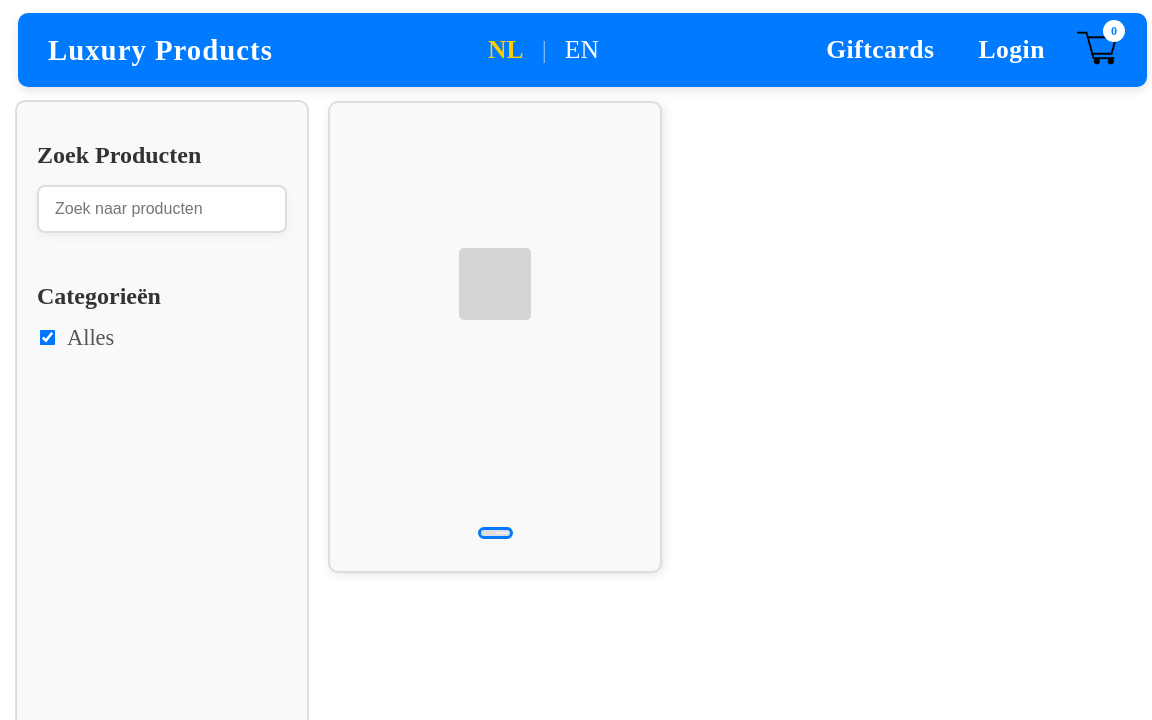
Test: test › should show error for invalid email input
Click the list item "Login" at (1012, 50), box [978,35,1045,64]
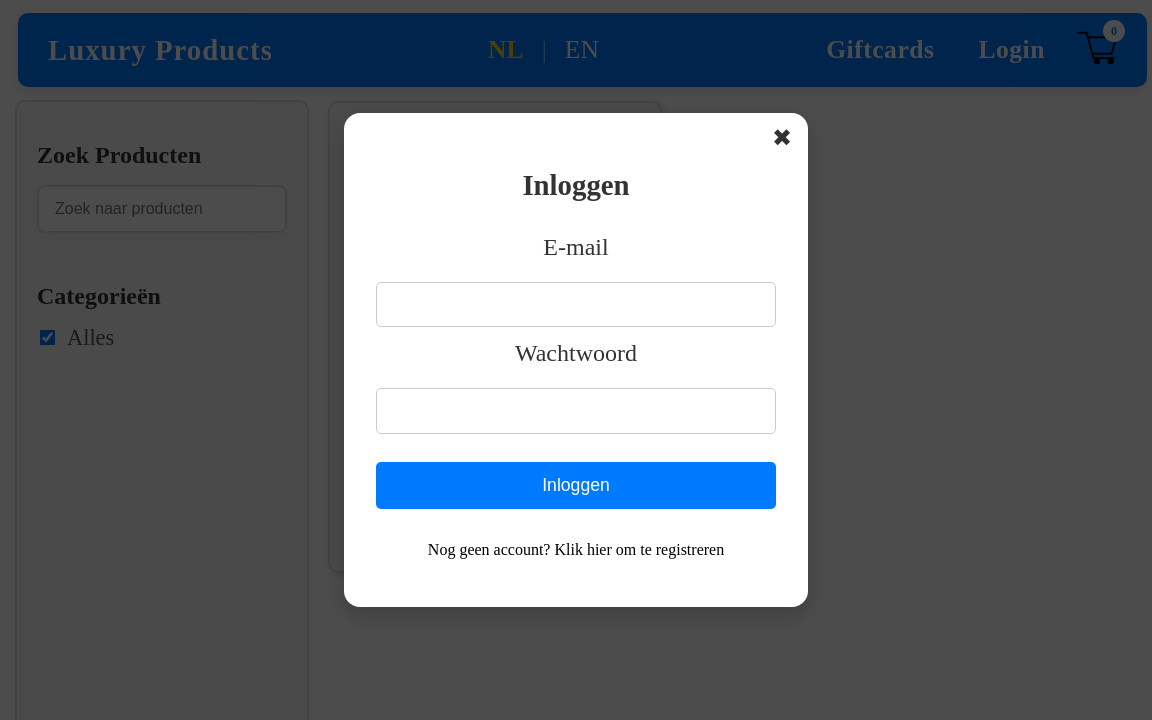
Type "invalidemail" into the field labelled "E-mail" at (576, 305), box [376,282,776,328]
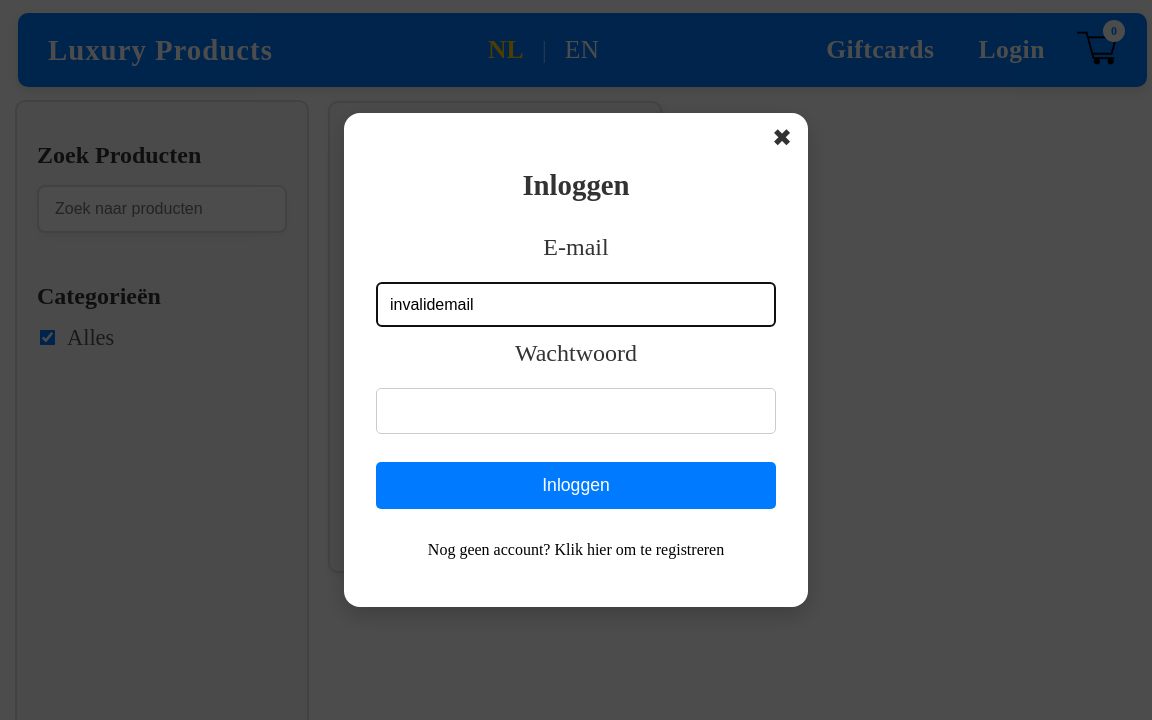
Type "Welkom01!" into the password field labelled "Wachtwoord" at (576, 411), box [376,388,776,434]
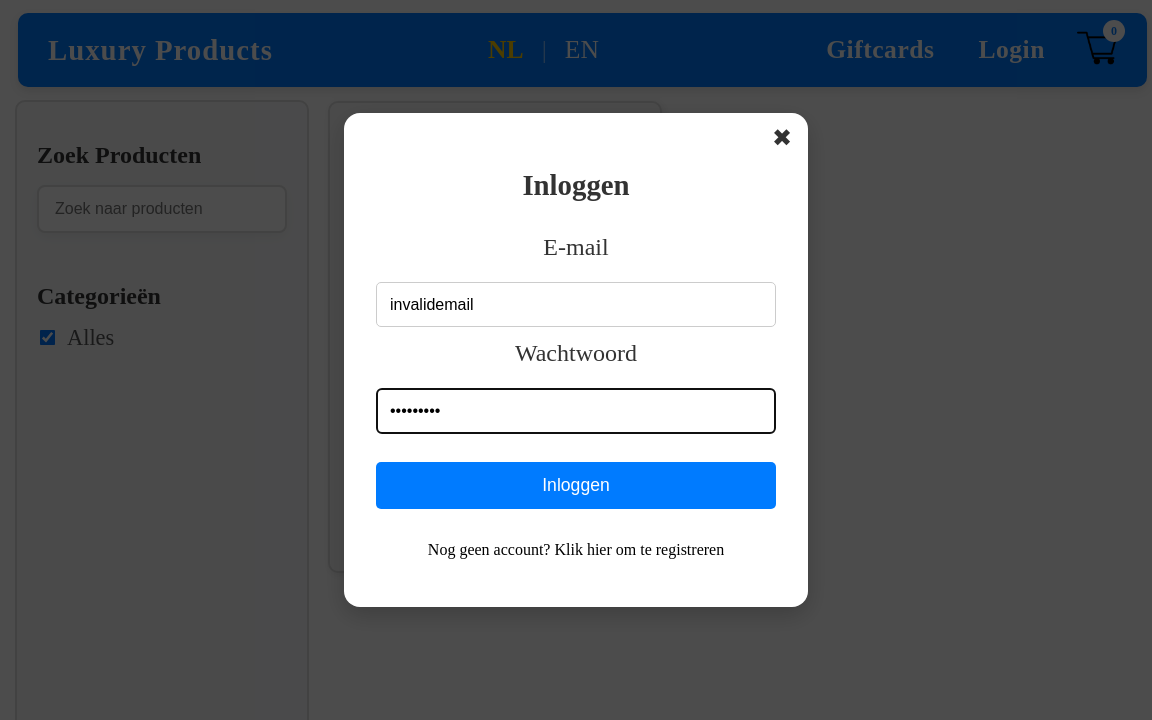
Click the submit button at (576, 486), box [376,462,776,509]
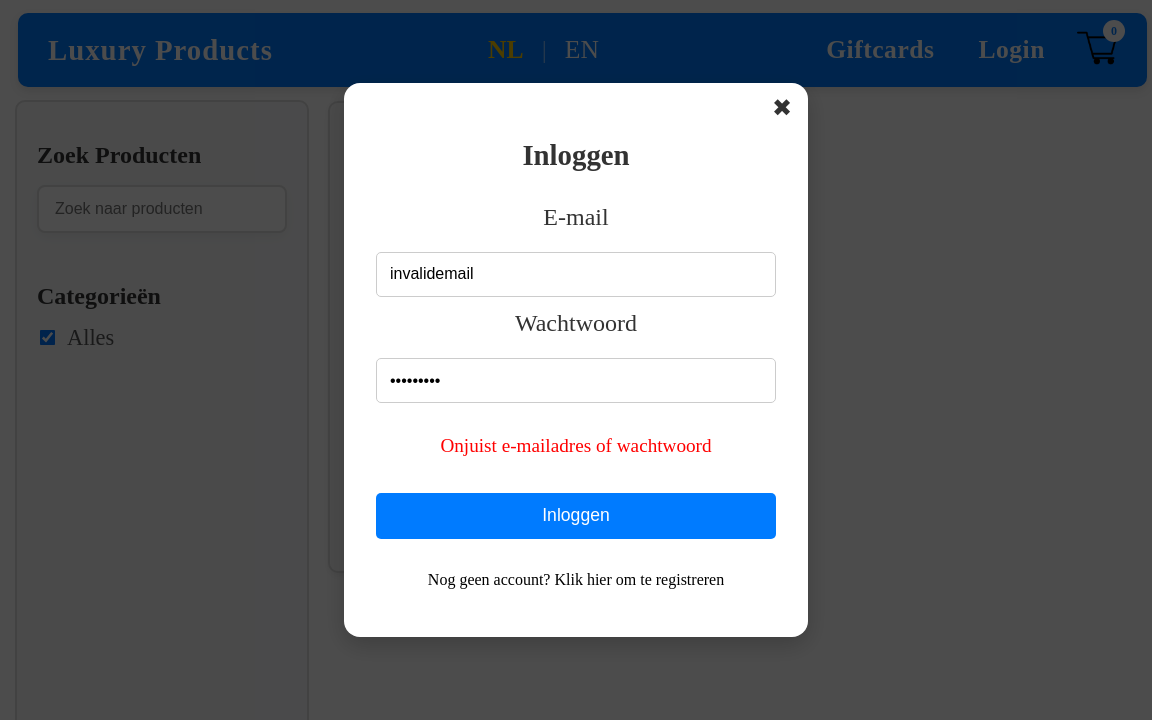
Result: the text "Onjuist e-mailadres of wachtwoord" is shown at [440,435,712,456]
